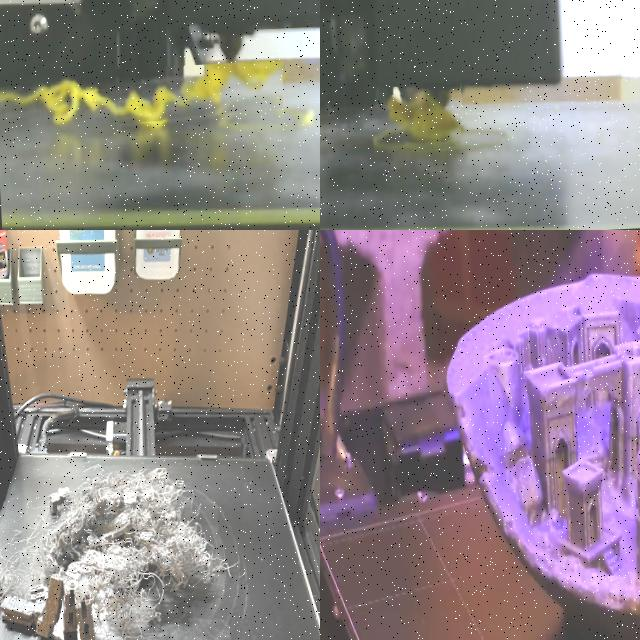spaghetti: (0, 463, 255, 640), (0, 61, 283, 126), (374, 87, 462, 152)
